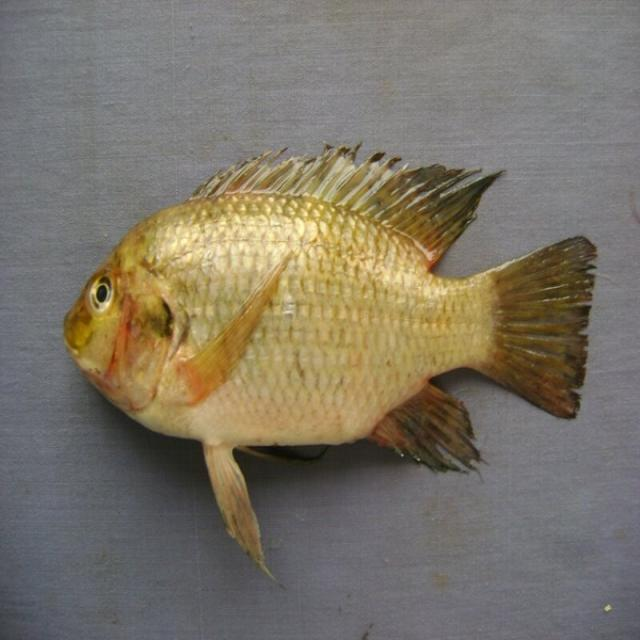ikan: (42, 128, 612, 588)
